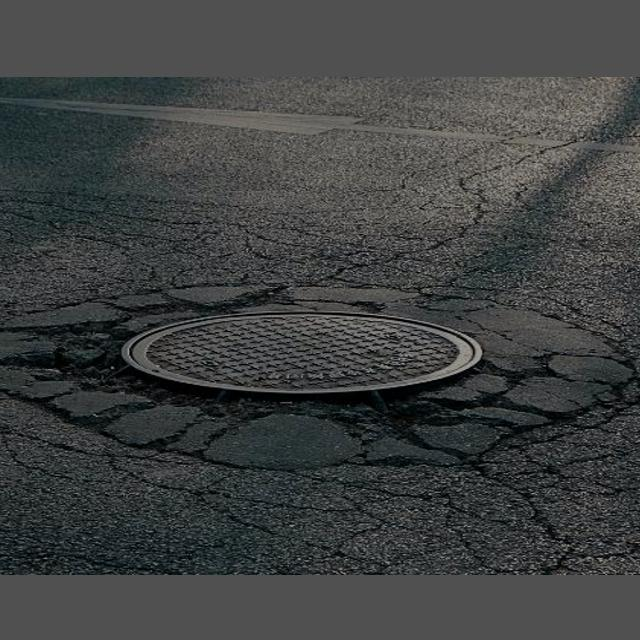circle: (0, 260, 640, 491)
